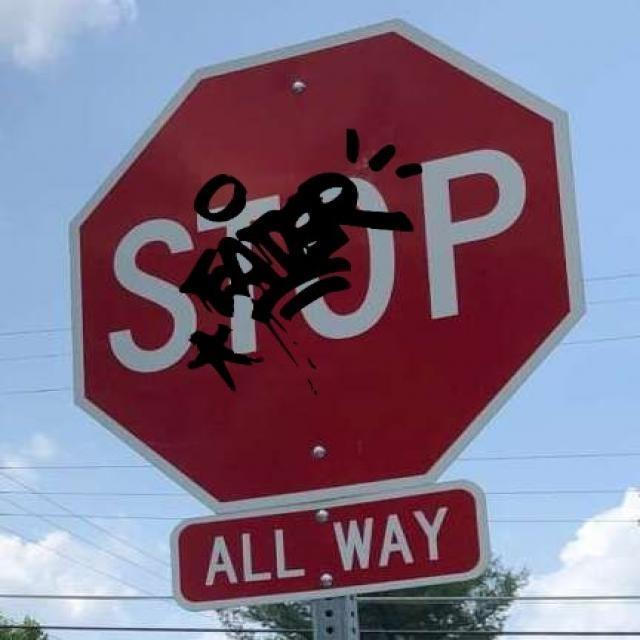Stop-Sign: (78, 36, 566, 481)
